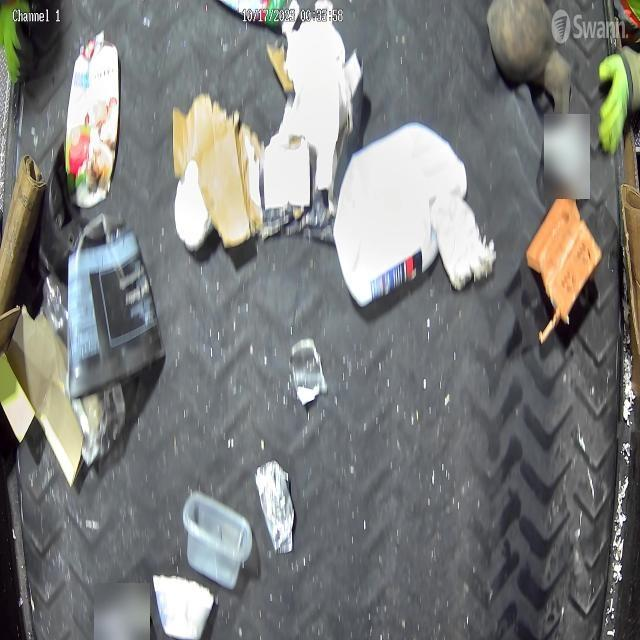milk_jug: (334, 122, 467, 305)
non_white_jug: (68, 212, 166, 400), (65, 30, 119, 208)
